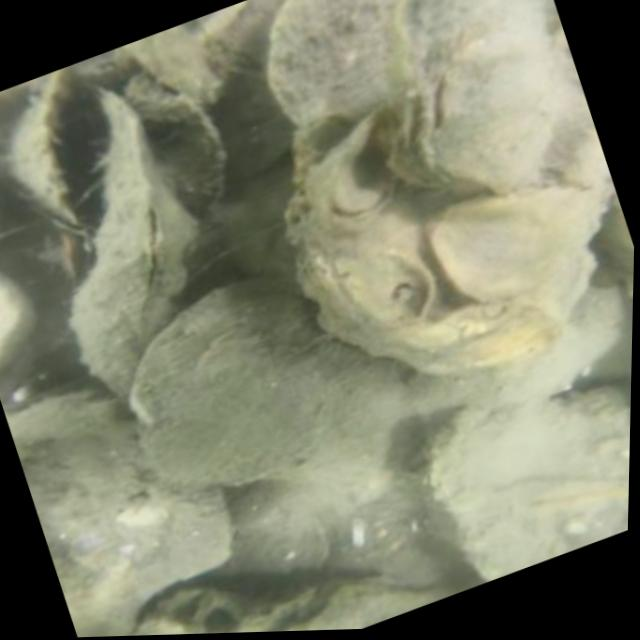Oyster-Indeterminate: (135, 274, 404, 497), (4, 388, 243, 637), (65, 84, 203, 403), (420, 384, 631, 579), (377, 0, 563, 190), (207, 468, 449, 584), (423, 181, 610, 329), (268, 0, 396, 122), (284, 586, 457, 631), (0, 272, 39, 367)
